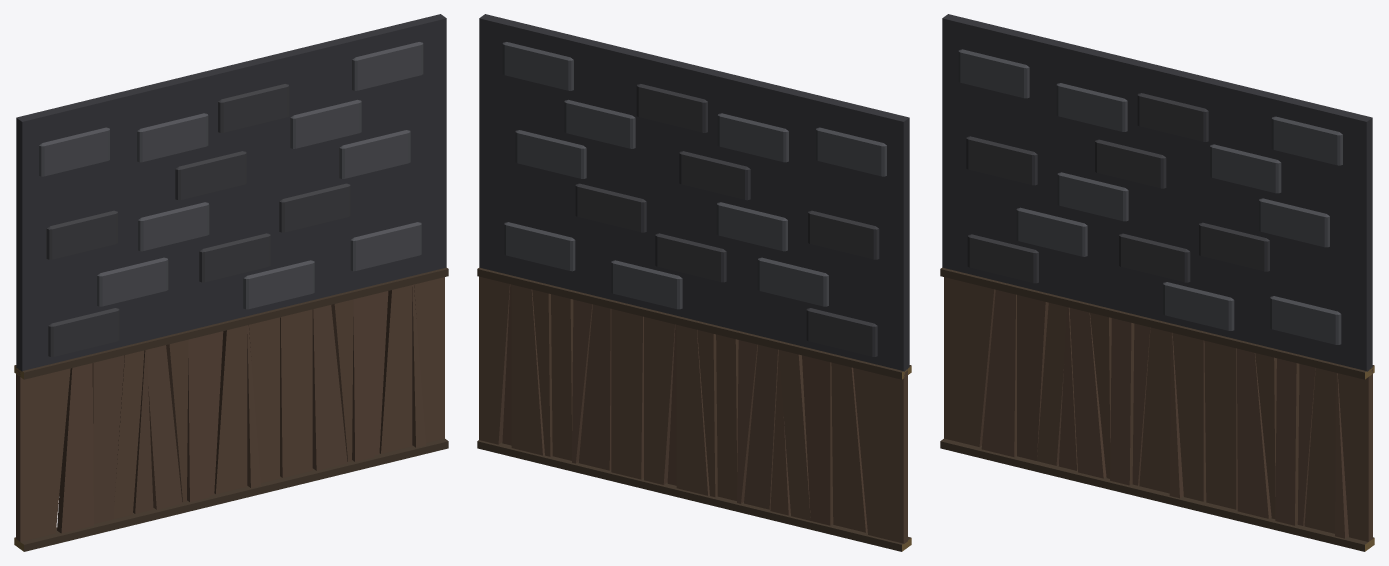
The model's file is Wall_2C_6m.fbx.
3 renders of one model, left to right at view 1: azimuth 30°, elevation 25°; view 2: azimuth 150°, elevation 25°; view 3: azimuth 330°, elevation 25°, orthographic.
Visible parts, largest first — view 1: pCube2421; view 2: pCube2421; view 3: pCube2421.
Boxes of the visible parts, bbox=[...] form: pCube2421: bbox=[14, 14, 448, 551]; pCube2421: bbox=[477, 14, 911, 551]; pCube2421: bbox=[940, 14, 1374, 551].
Size of the model in its own units: 600 by 579 by 24.77.
